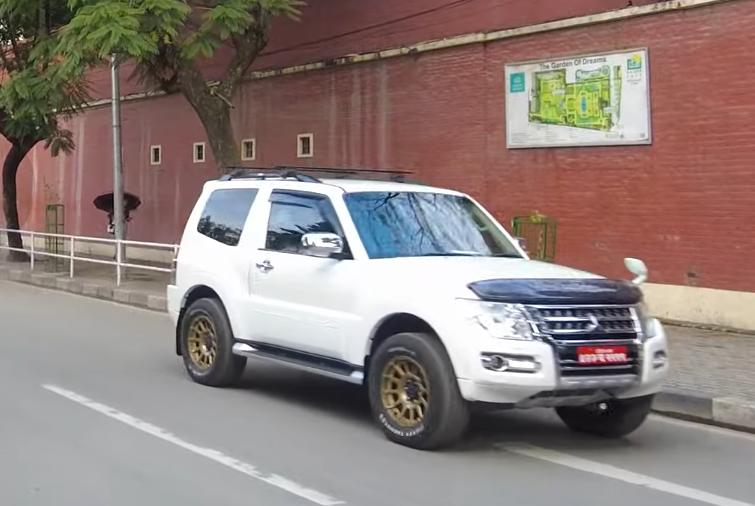SUV: (166, 162, 675, 456)
